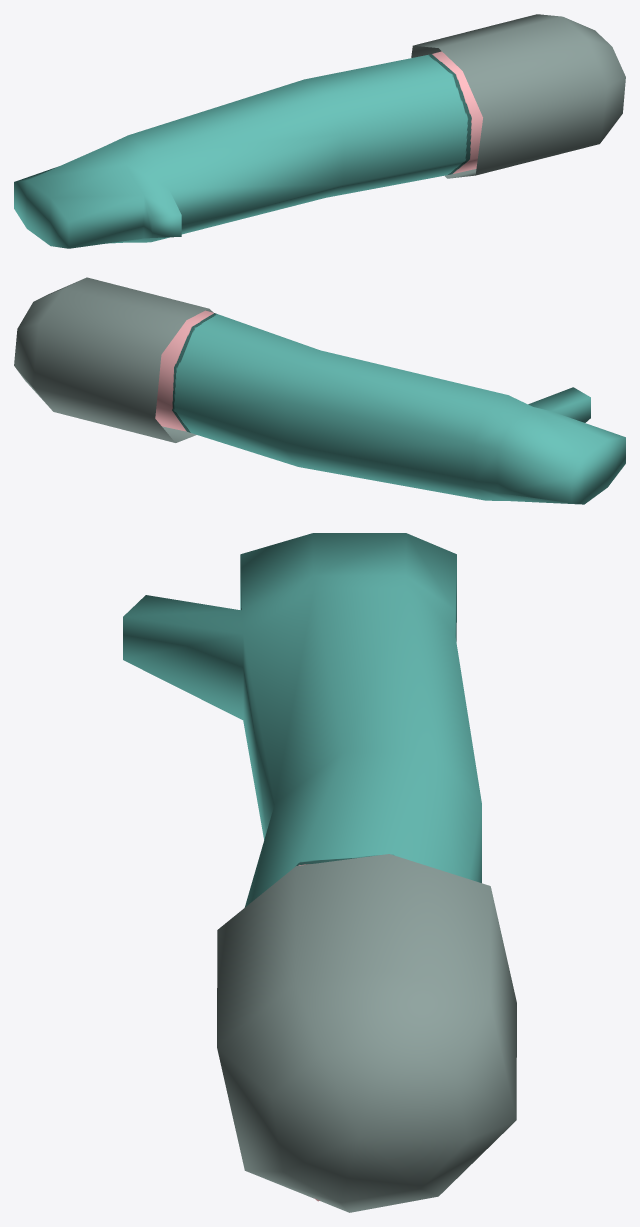
The model's file is armR.obj.
3 views of the same model, one above another, from view 1: azimuth 30°, elevation 25°; view 2: azimuth 150°, elevation 25°; view 3: azimuth 270°, elevation 25° (orthographic). The views are drawn at different scales.
Parts seen in each view (by area): view 1: armR; view 2: armR; view 3: armR.
Part boxes in pixels (x1=…): armR: x1=14, y1=14, x2=625, y2=248; armR: x1=14, y1=277, x2=625, y2=504; armR: x1=123, y1=533, x2=516, y2=1212.
Size of the model in its own units: 1.03 by 0.2098 by 0.3052.
Materials: 1 (1 with a texture image).
